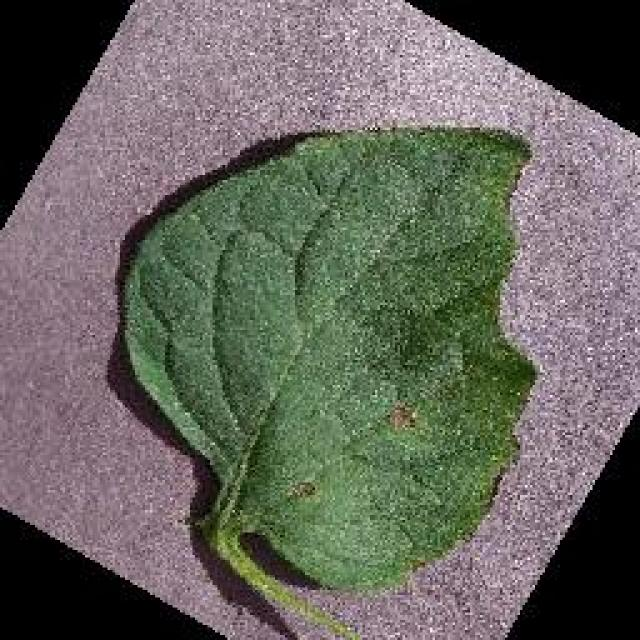Tomato___Target_Spot: (125, 130, 532, 602)
